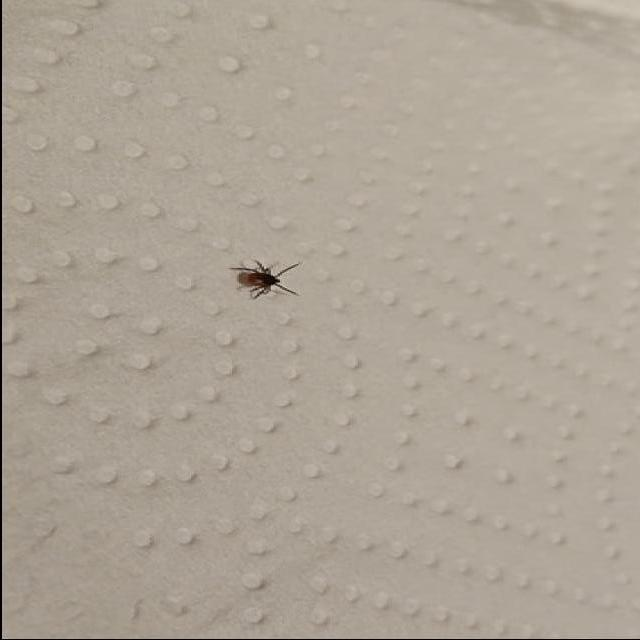Ixodes Ricinus-F: (225, 261, 301, 301)
